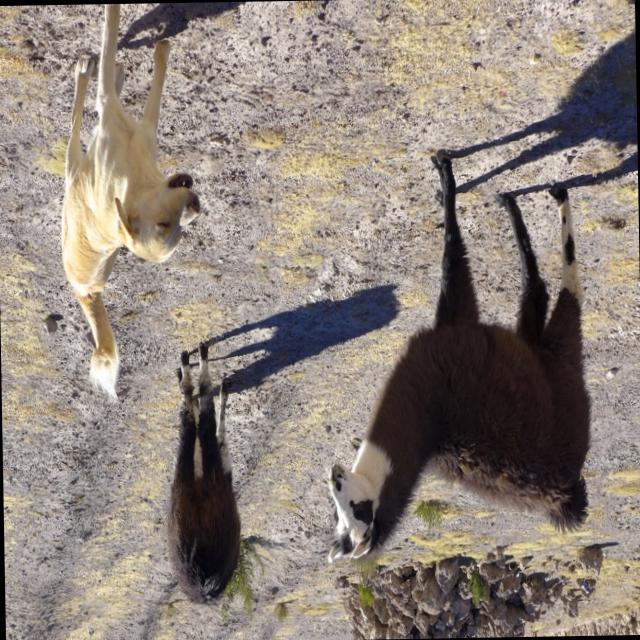alpaca: (322, 143, 593, 560), (164, 343, 240, 608)
